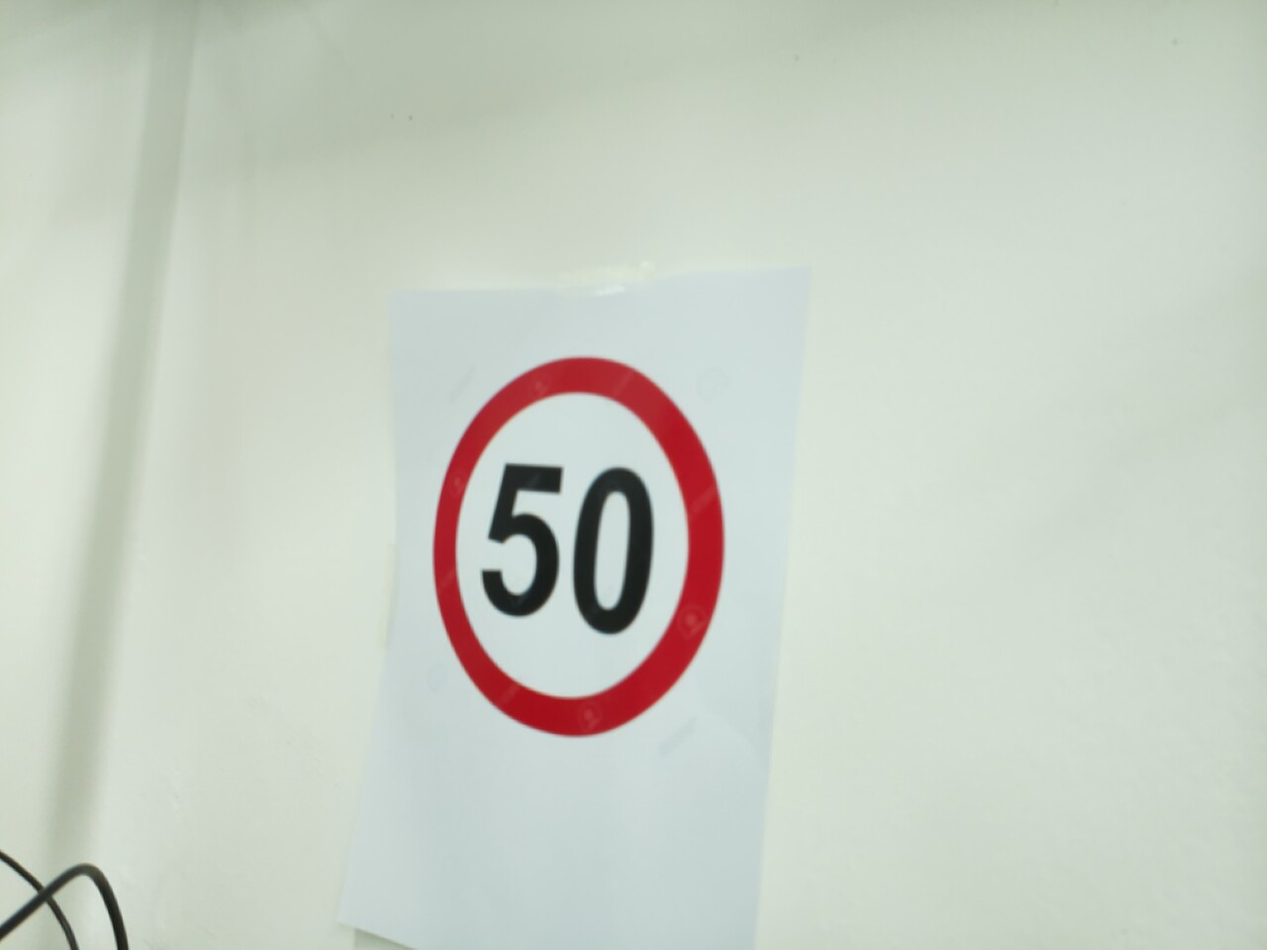speed_50: (423, 346, 734, 748)
